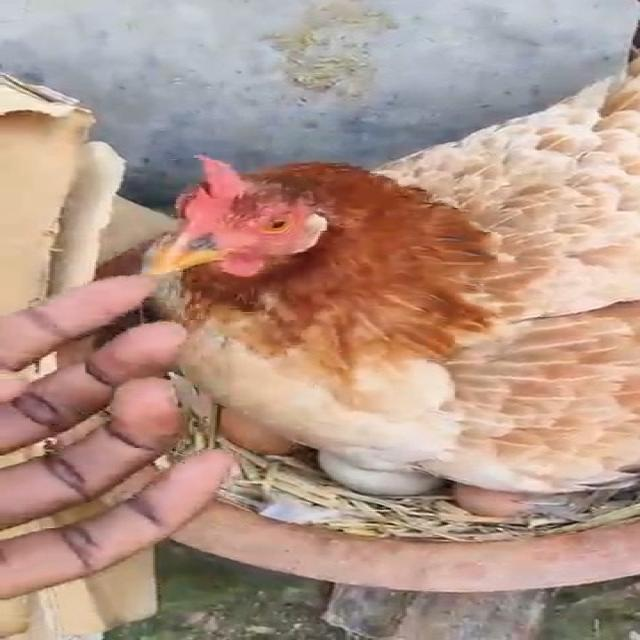crouch chicken: (60, 54, 640, 524)
